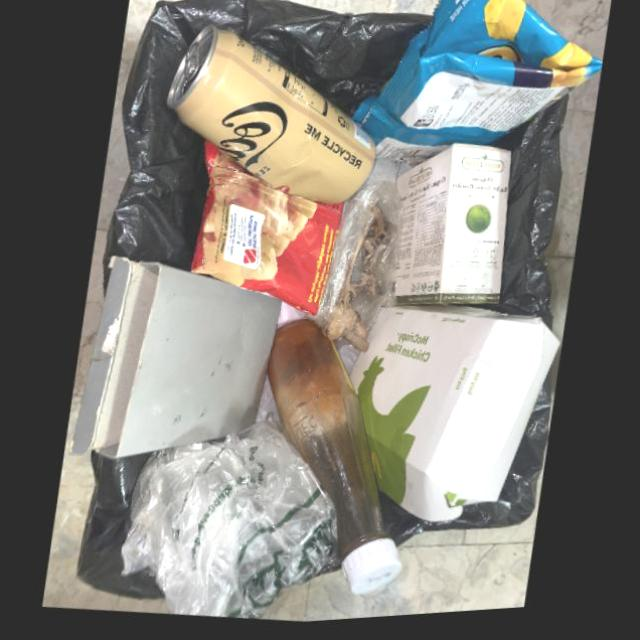bao_bi_thuc_pham: (350, 0, 600, 170), (189, 142, 342, 319)
carton: (349, 310, 559, 528), (69, 257, 281, 460), (393, 149, 510, 311)
chai_thuy_tinh: (265, 322, 402, 600)
nhom: (164, 27, 374, 209)
thuc_an_thua: (326, 208, 394, 358)
tui_ni_long: (120, 420, 341, 623), (313, 186, 401, 328)
